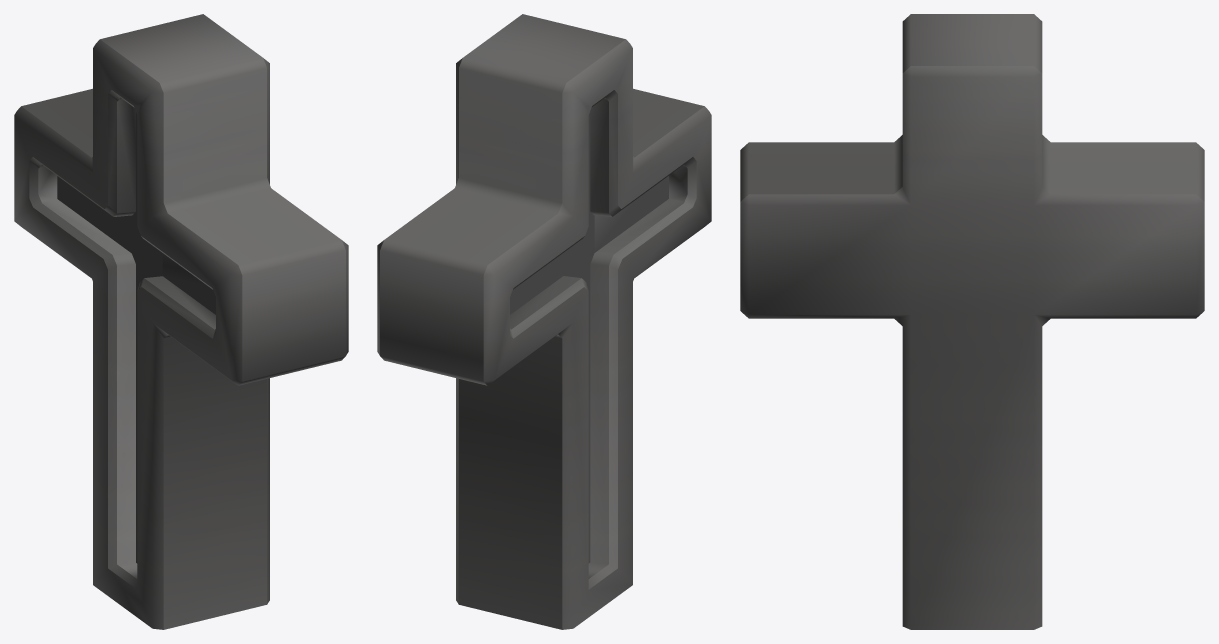
Rendered from Cross_2_1.obj.
3 renders of one model, left to right at view 1: azimuth 30°, elevation 25°; view 2: azimuth 150°, elevation 25°; view 3: azimuth 270°, elevation 25°, orthographic. The views are drawn at different scales.
Visible parts, largest first — view 1: Cross_2_1; view 2: Cross_2_1; view 3: Cross_2_1.
Part boxes in pixels (x1,y1,x2,y2): Cross_2_1: [14, 14, 348, 629]; Cross_2_1: [377, 14, 711, 629]; Cross_2_1: [740, 14, 1204, 629].
Size of the model in its own units: 0.2195 by 0.971 by 0.7287.
